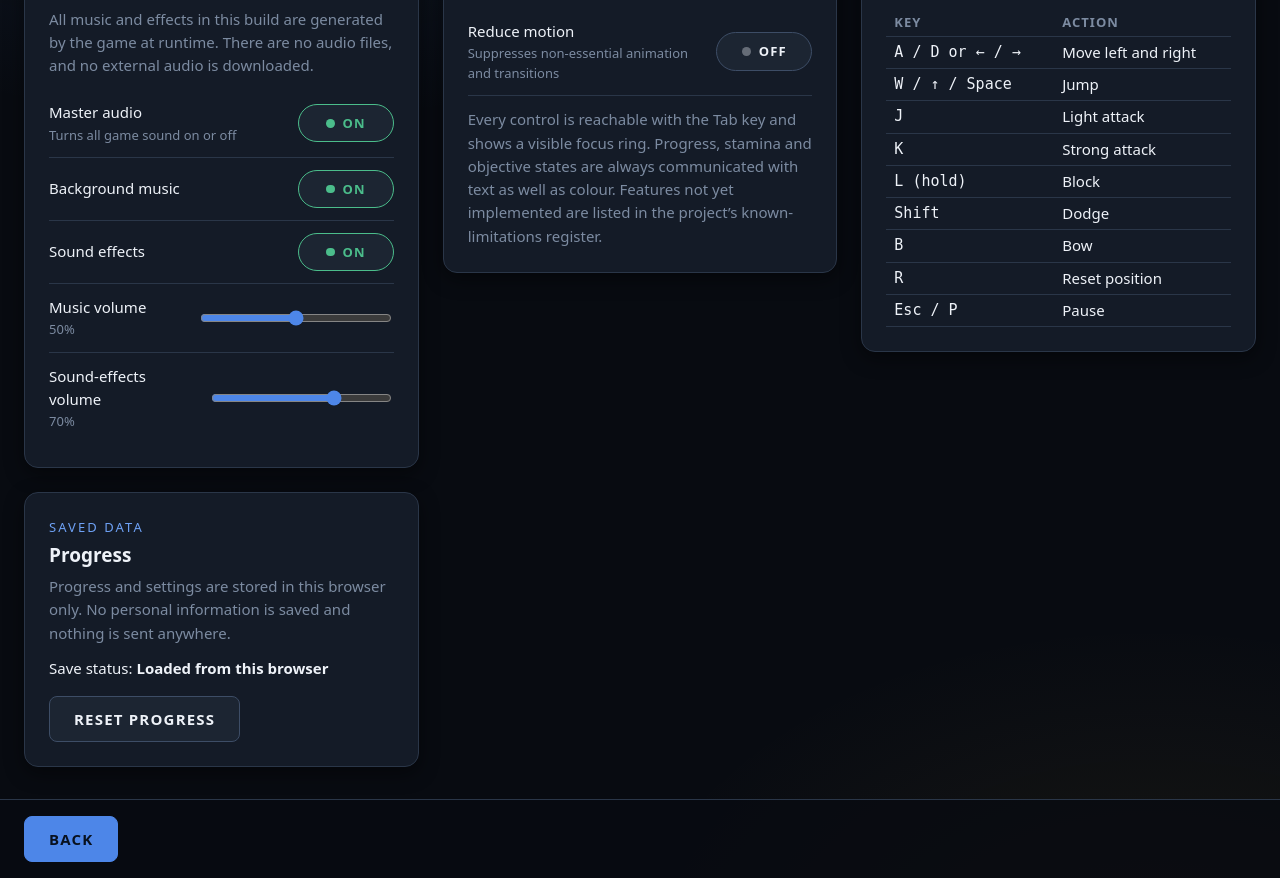
Scenario: progress reset › asks for confirmation before clearing progress
Later steps or results of the test are not shown.
(page scrolled)
Step 1. Click the button with test id "reset-progress" → point(145, 719), box [49, 696, 240, 742]
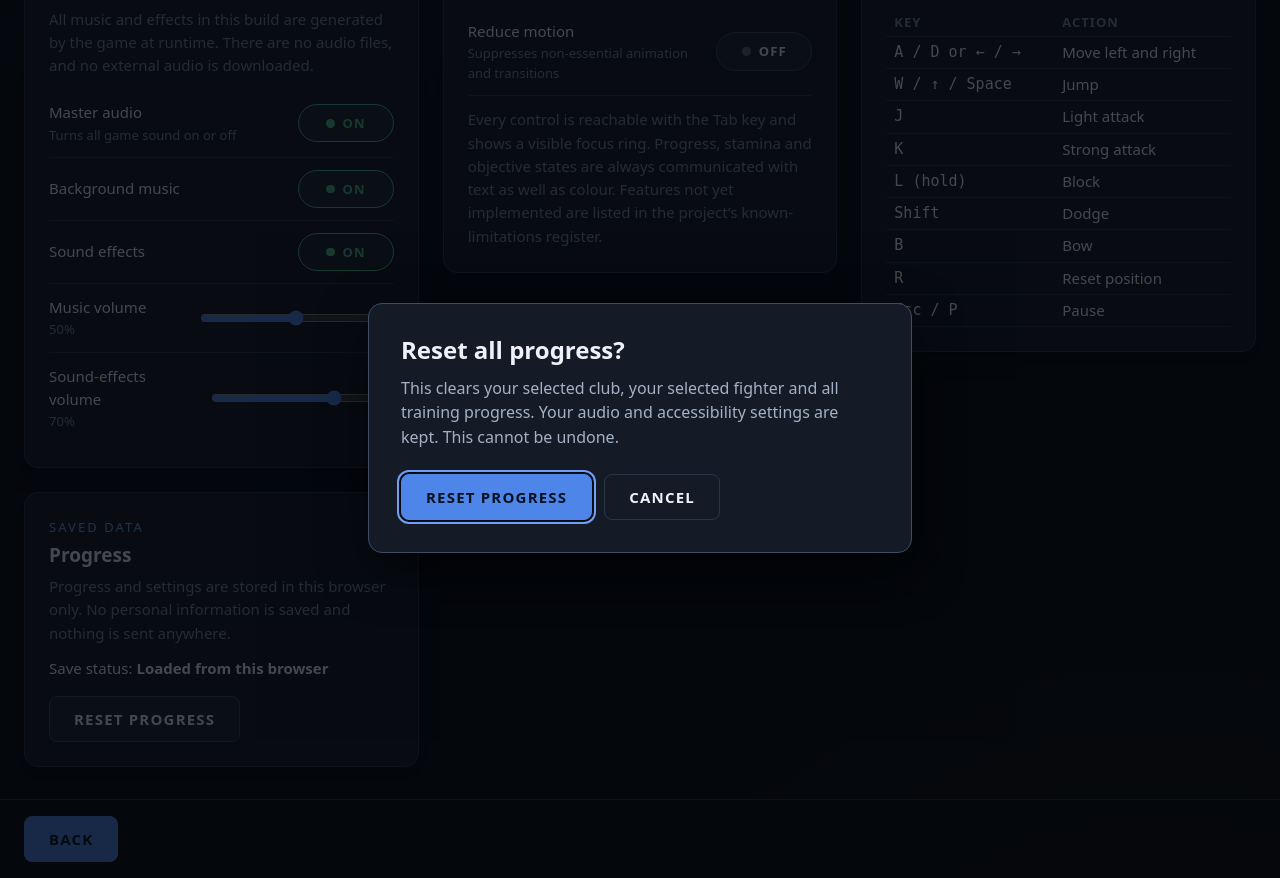
Check: the dialog is shown, box [368, 303, 912, 553]
